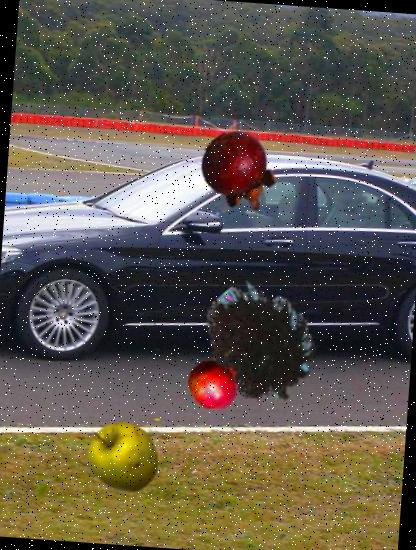Apple: (80, 413, 164, 498)
Mangostan: (194, 127, 285, 218)
Pomegranate: (185, 356, 242, 412)
Rambutan: (194, 277, 326, 408)
